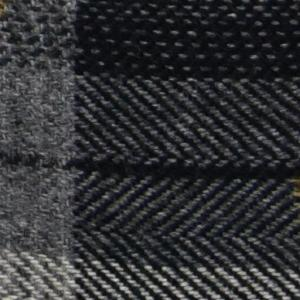Stain: (280, 163, 300, 217), (1, 1, 17, 22)
